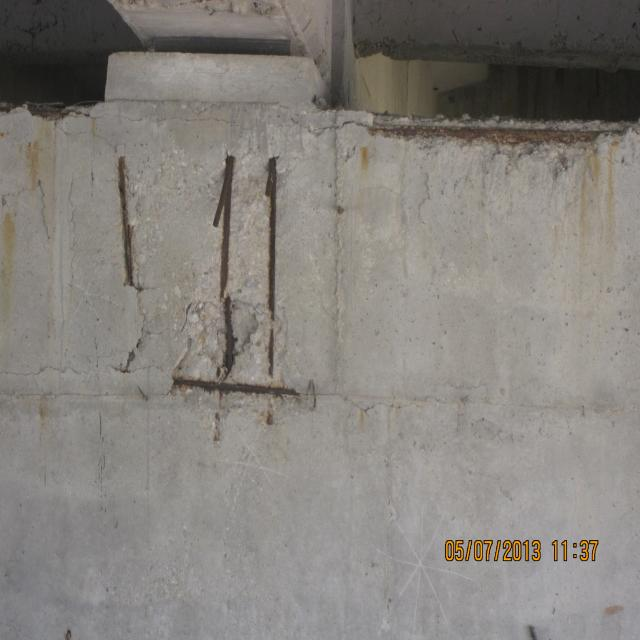corrosion: (168, 148, 322, 440), (543, 151, 621, 297), (367, 114, 632, 147), (118, 155, 143, 292), (0, 99, 98, 121), (356, 137, 383, 205)
